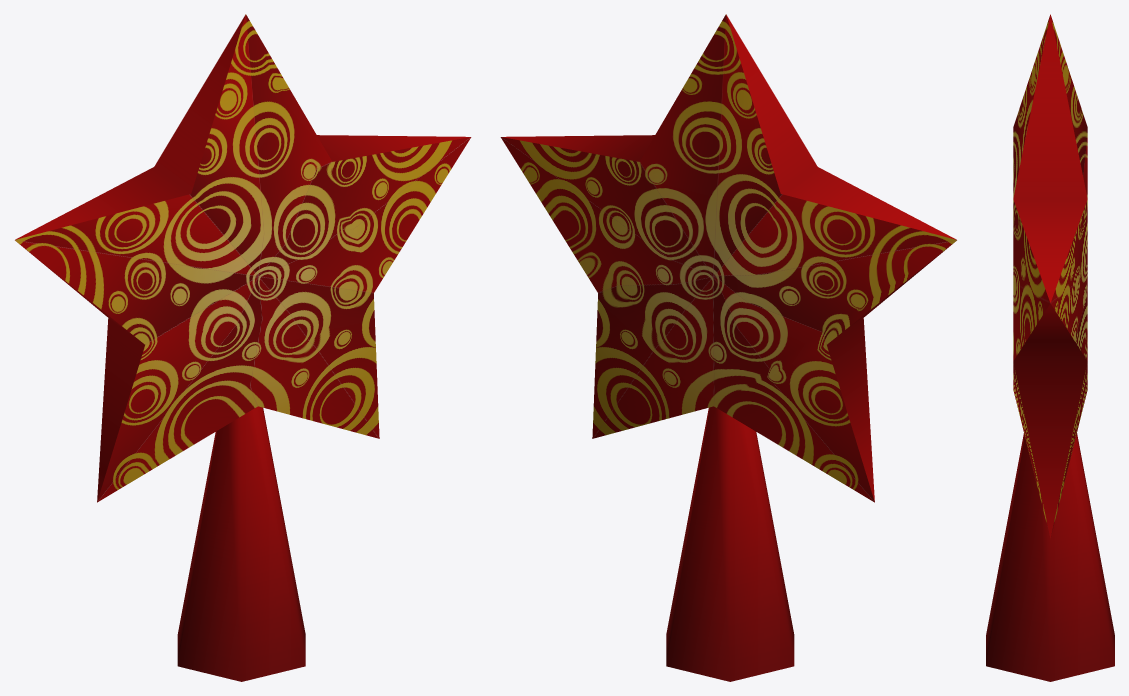
Rendered from star.fbx.
3 views of the same model, side by side, from view 1: azimuth 30°, elevation 25°; view 2: azimuth 150°, elevation 25°; view 3: azimuth 270°, elevation 25° (orthographic).
Parts seen in each view (by area): view 1: Star; view 2: Star; view 3: Star.
Part boxes in pixels (<box>): Star: <box>15,14,471,681</box>; Star: <box>500,14,956,681</box>; Star: <box>986,14,1114,681</box>.
Size of the model in its own units: 14.26 by 18.95 by 3.46.
1 material, 1 textured.
